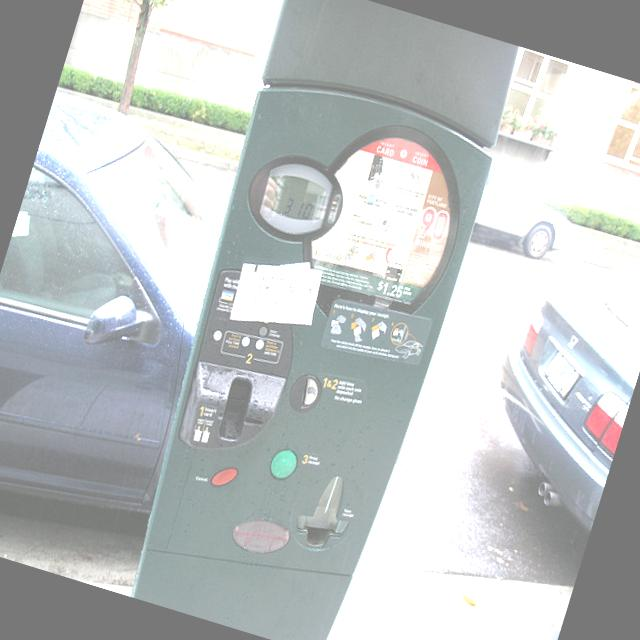Vehicle: (0, 90, 258, 538), (460, 237, 640, 537), (468, 158, 587, 268)
